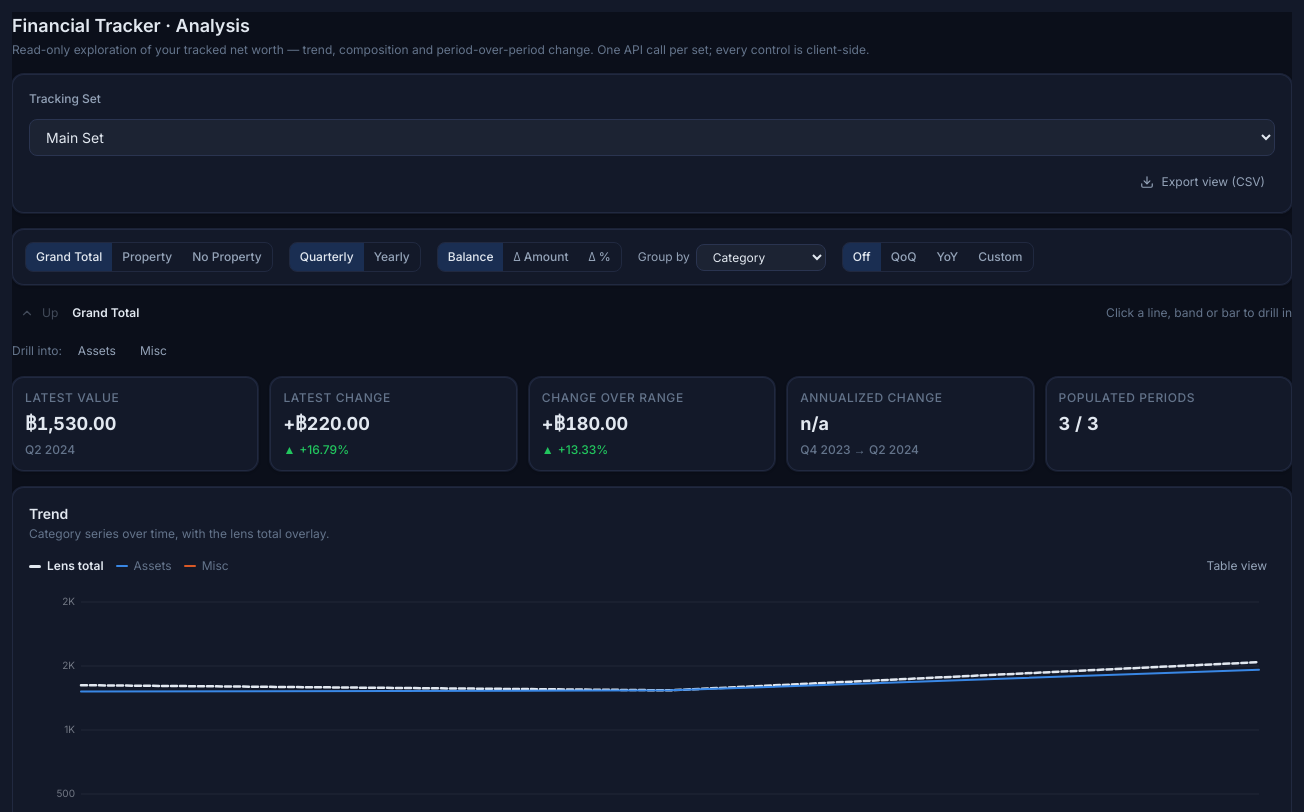
Test: Analysis page › drilling from the "Drill into:" row advances the breadcrumb
This screenshot has width=1304, height=812.
Expected: the heading "Trend" is shown, [29,505,68,522]
Click the button "Assets" next to "Drill into:" at [97, 351], box [70,341,124,361]
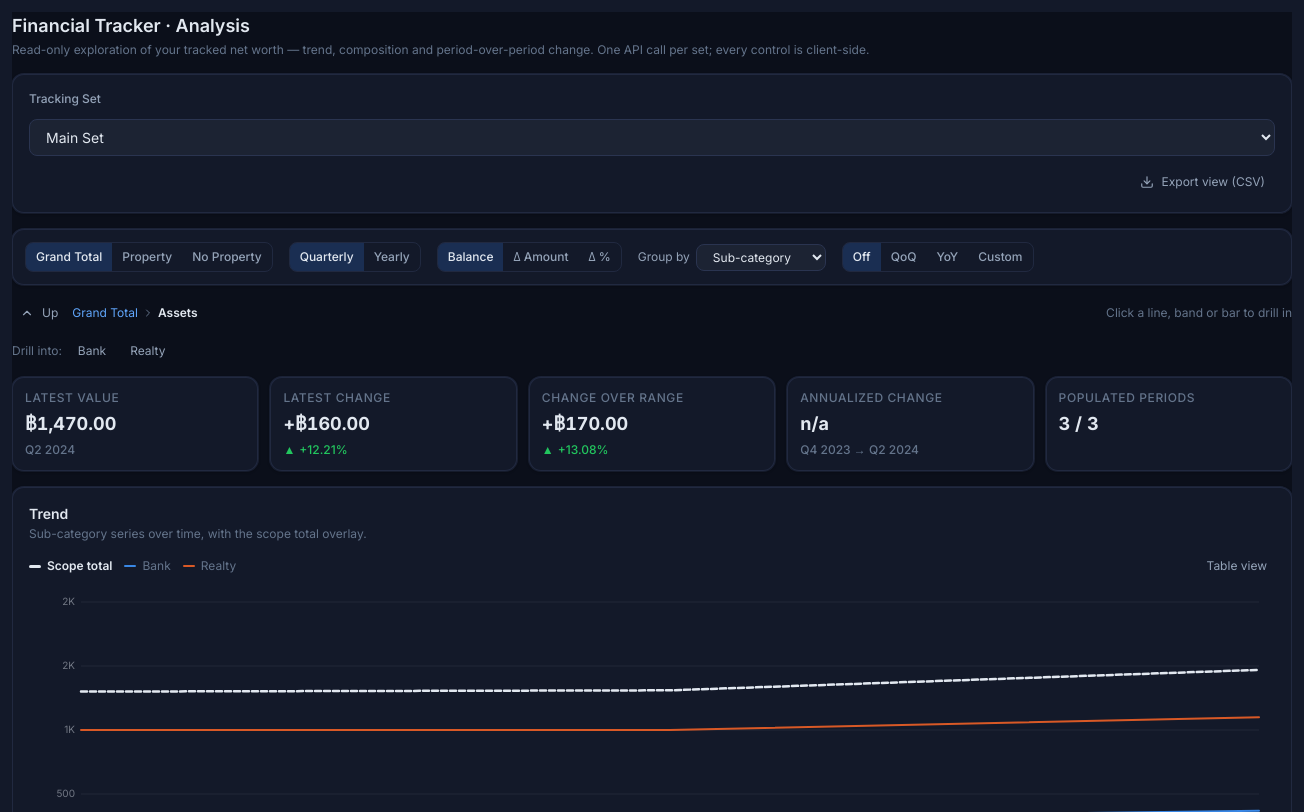
Now the text "Assets" is shown, box [158,305,198,321]
